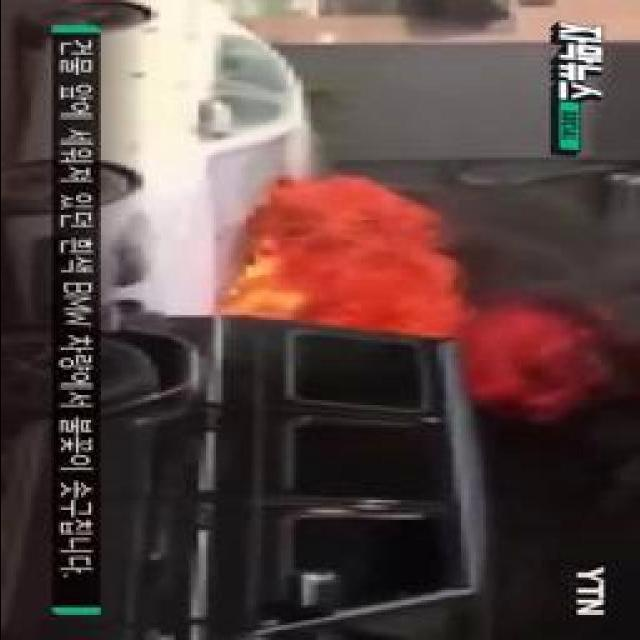Fire: (238, 180, 524, 407)
